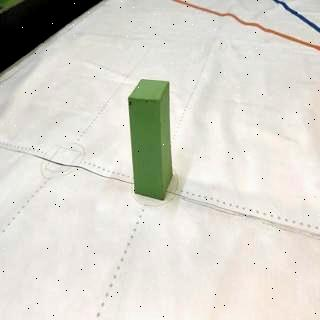greenbox: (128, 78, 171, 198)
